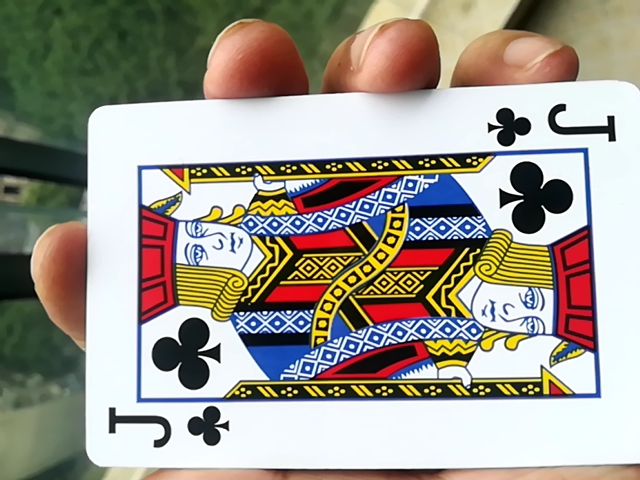mh j: (61, 101, 629, 475)
